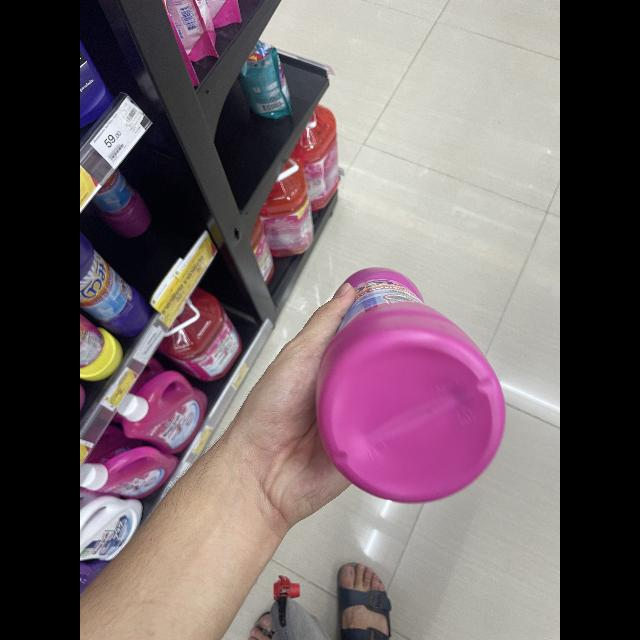chemical_plastic_bottle: (314, 264, 514, 508)
